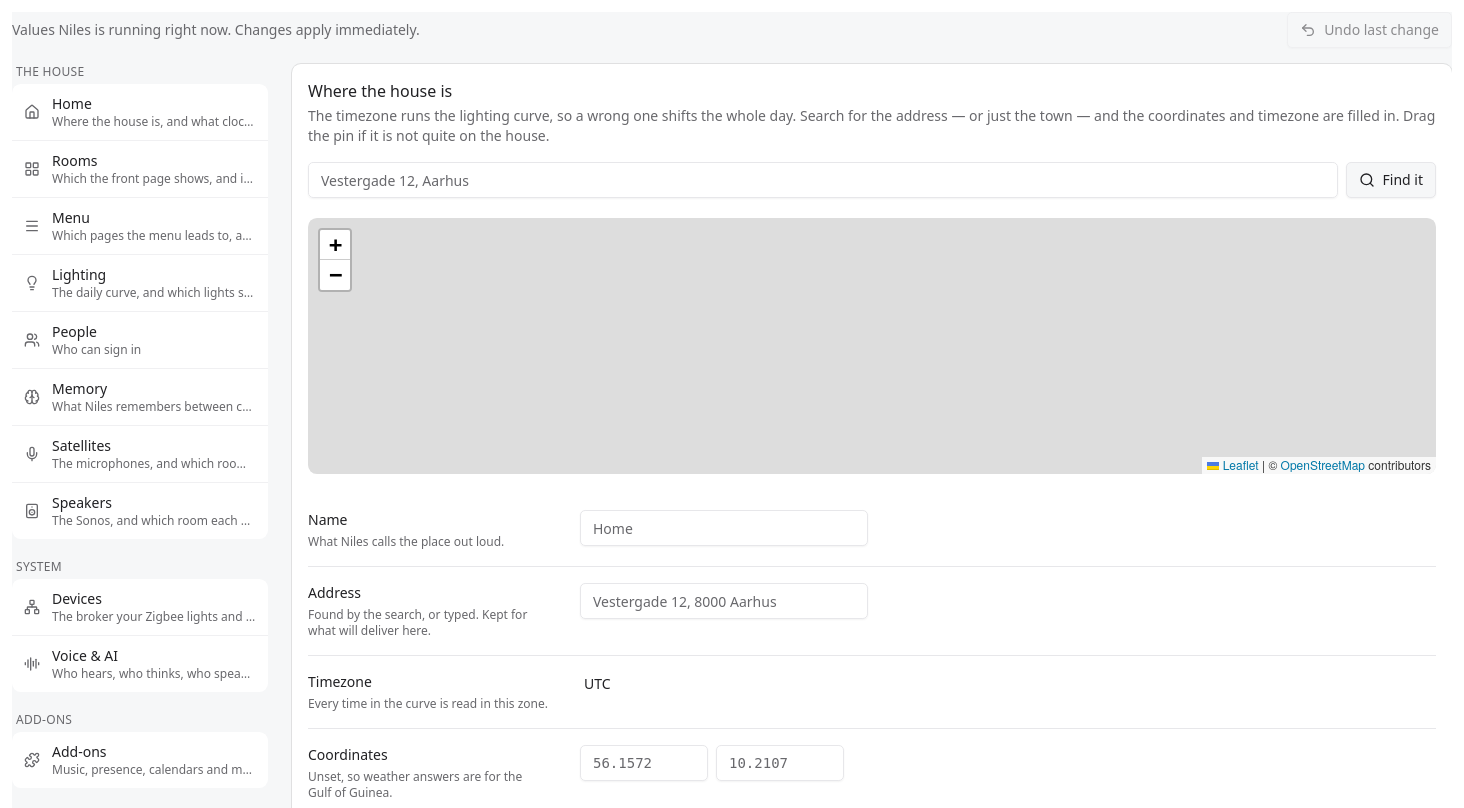
Test: ConfigPanel › sets the sign-in keys on People, and leaves the API key to its own page
The width and height of the screenshot is (1464, 808).
Click the button "People Who can sign in" at (140, 340), box [12,312,268,369]
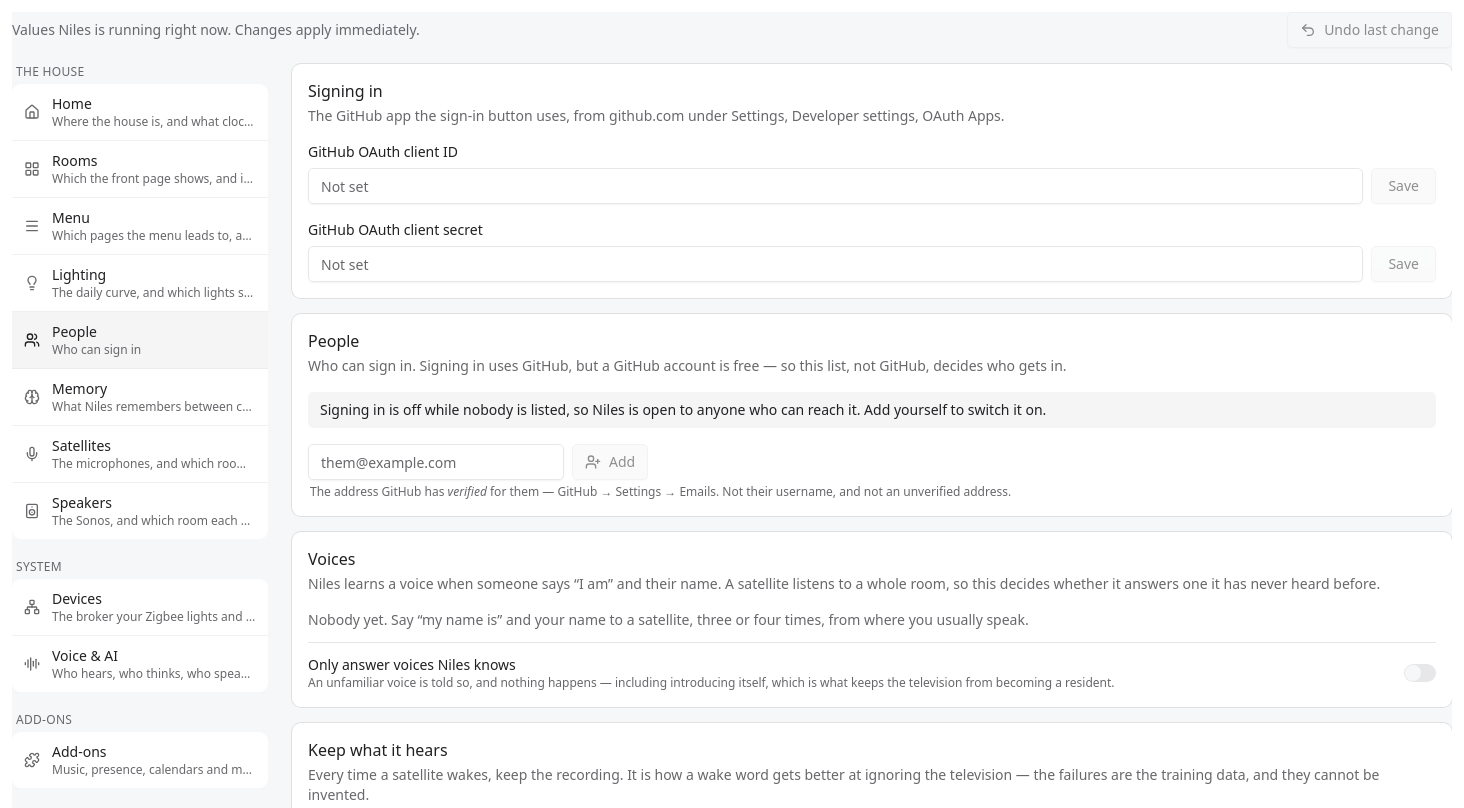
Expected: the password field named "GitHub OAuth client secret" is shown, [308,246,1363,282]
